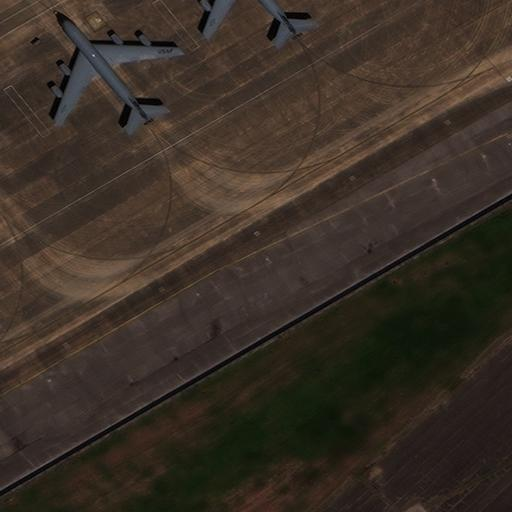Military Transport: (53, 15, 177, 124), (200, 0, 310, 38)
